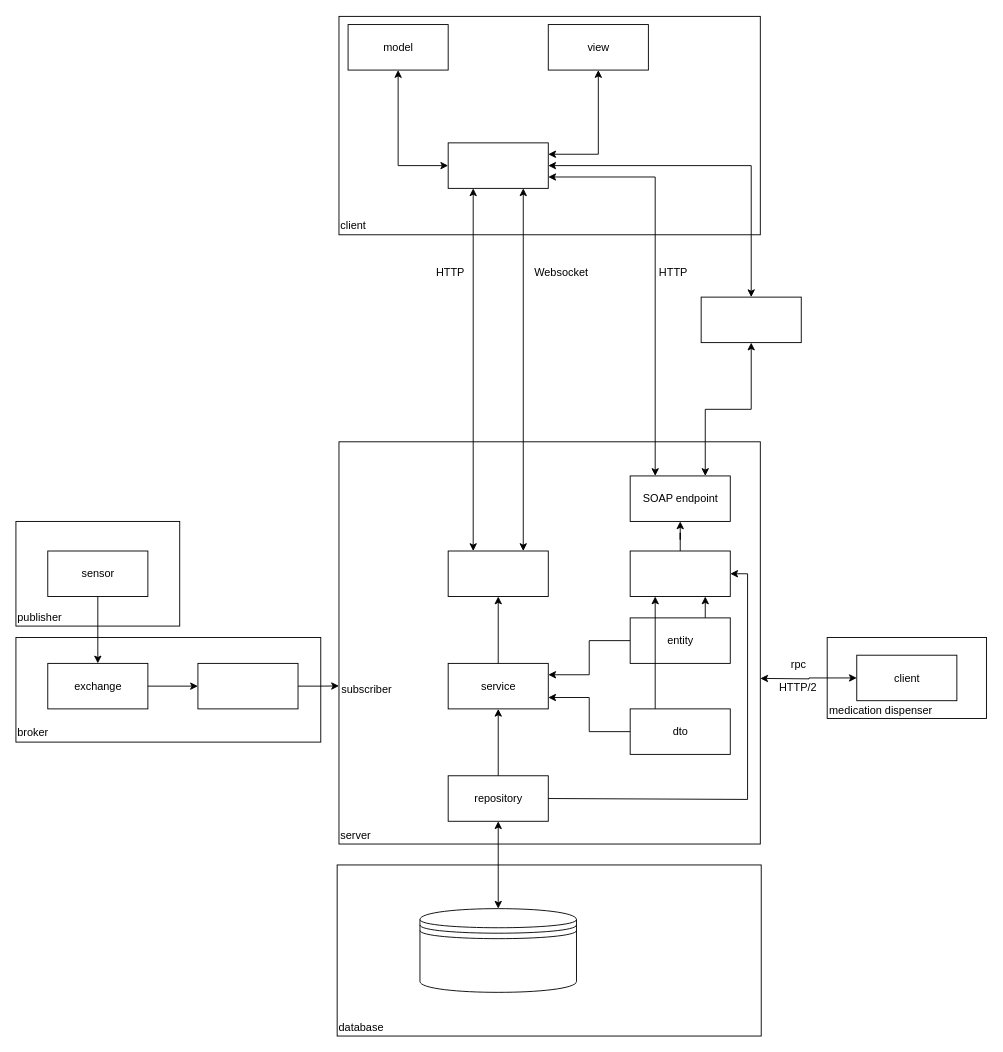
Image size: 1003x1052. Some labels were removed from this diagram. Each missing label, with the centre of its shape:
backend controller: point (497, 573)
frontend controller: point (497, 165)
queue: point (247, 685)
SOAP service: point (679, 573)
UDDI (WSDL): point (750, 319)
